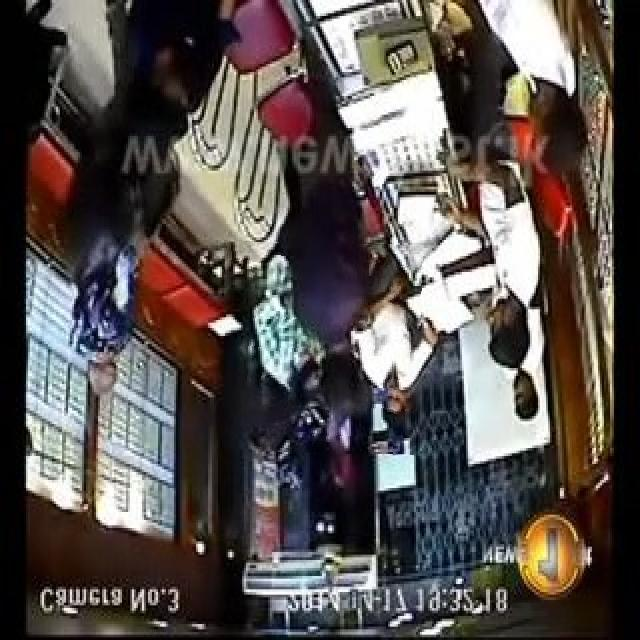Shoplifting: (224, 242, 422, 453)
